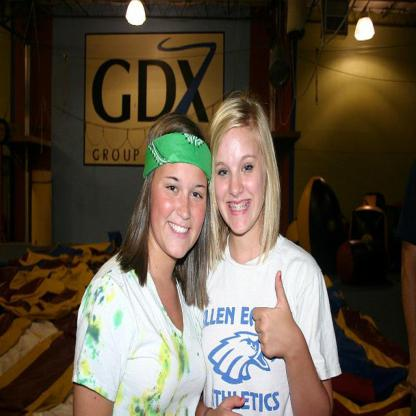face: (152, 143, 207, 260), (215, 126, 266, 233)
